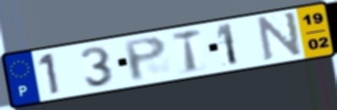1: (215, 21, 240, 69), (37, 52, 62, 98)
3: (79, 45, 116, 88)
N: (257, 10, 304, 63)
P: (122, 35, 169, 83)
T: (171, 27, 204, 75)
